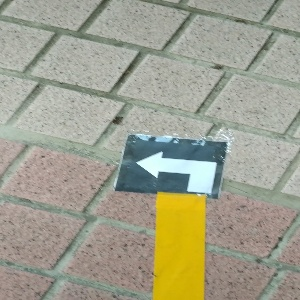left: (116, 136, 226, 197)
